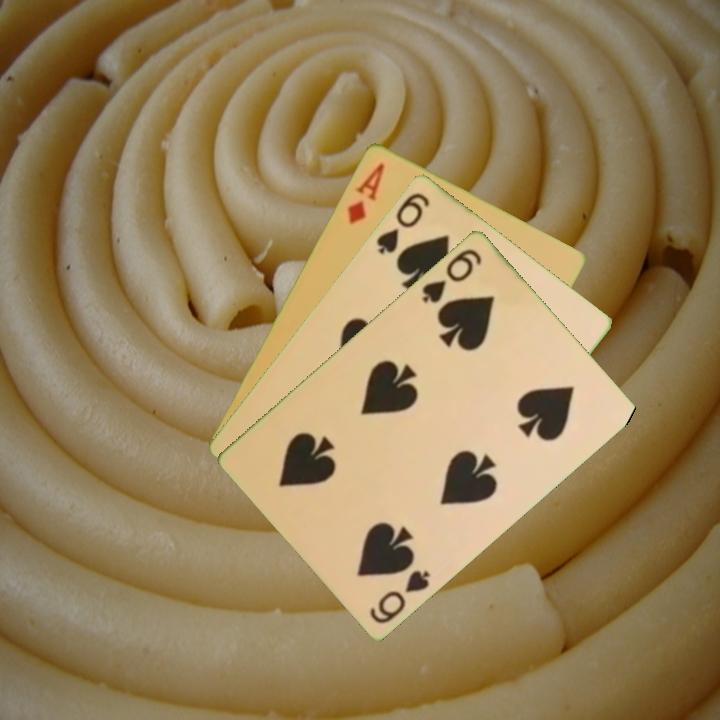6s: (372, 188, 433, 257), (418, 244, 485, 306), (366, 565, 433, 626)
Ad: (343, 159, 388, 227)
